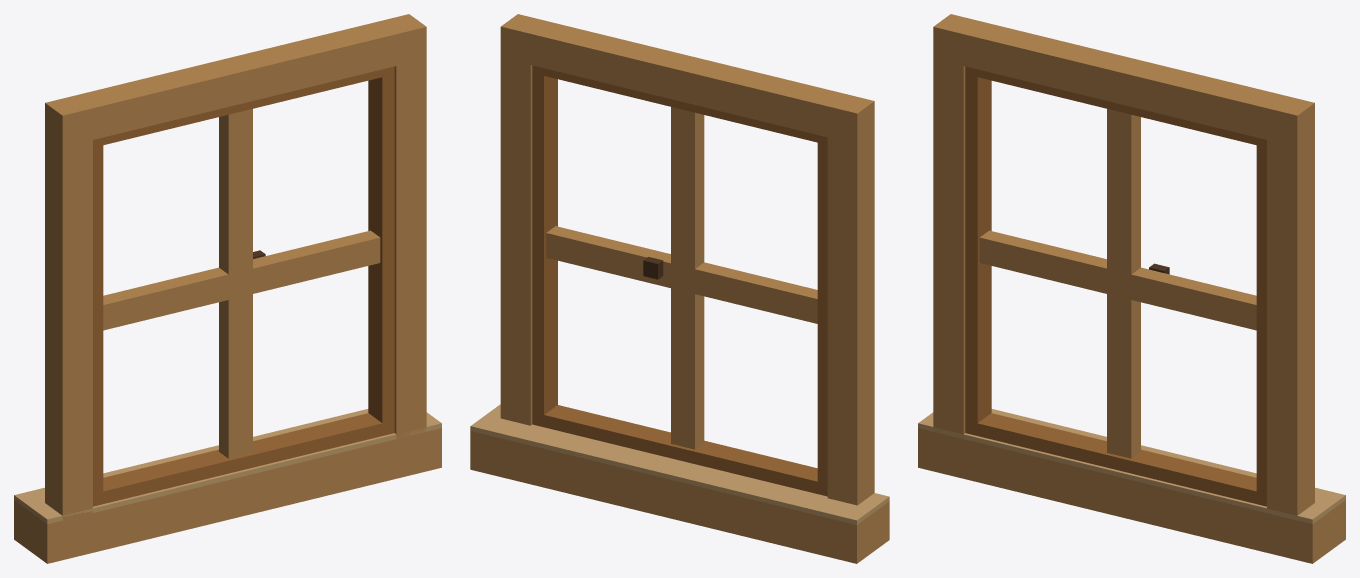
The model's file is window-empty.glb.
3 renders of one model, left to right at view 1: azimuth 30°, elevation 25°; view 2: azimuth 150°, elevation 25°; view 3: azimuth 330°, elevation 25°, orthographic. The views are drawn at different scales.
Bounding box in the file's own units: 26 × 28 × 3.8.
